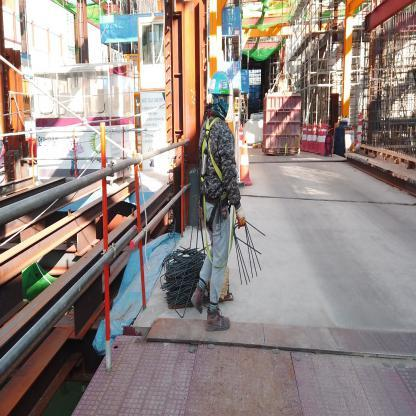safety-shoe: (205, 306, 236, 337), (189, 290, 211, 316)
